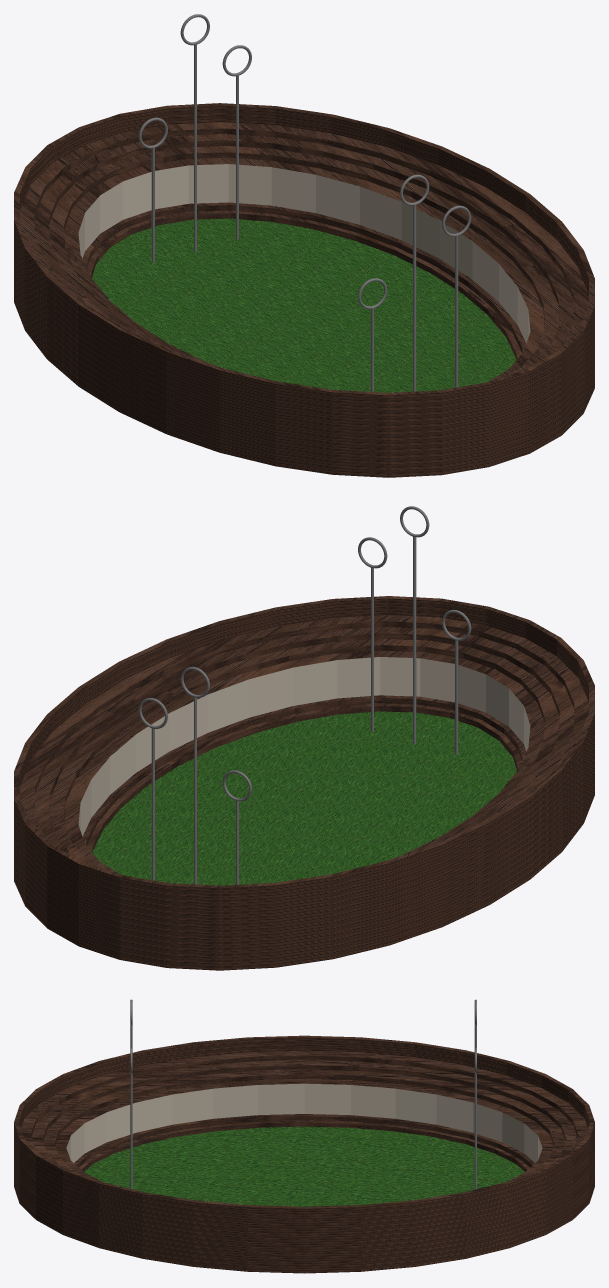
Rendered from pitch-field.fbx.
3 views of the same model, one above another, from view 1: azimuth 30°, elevation 25°; view 2: azimuth 150°, elevation 25°; view 3: azimuth 270°, elevation 25° (orthographic). The views are drawn at different scales.
Visible parts, largest first — view 1: Circle, Cylinder.005, Cylinder.001, Cylinder.004, Cylinder, Torus; view 2: Circle, Cylinder.005, Cylinder, Cylinder.001, Cylinder.004, Torus.002; view 3: Circle, Cylinder, Cylinder.004.
Boxes of the visible parts, x1,y1,x2,y2 form: Circle: (14, 103, 594, 477); Cylinder.005: (400, 174, 429, 391); Cylinder.001: (180, 14, 209, 252); Cylinder.004: (442, 205, 471, 387); Cylinder: (222, 45, 251, 239); Torus: (138, 117, 167, 262); Circle: (14, 596, 594, 970); Cylinder.005: (400, 506, 429, 744); Cylinder: (138, 698, 167, 880); Cylinder.001: (180, 667, 209, 884); Cylinder.004: (358, 537, 387, 731); Torus.002: (442, 609, 471, 754); Circle: (14, 1035, 594, 1273); Cylinder: (474, 1048, 476, 1189); Cylinder.004: (130, 1048, 132, 1189).
Bounding box in the file's own units: 8600 × 4325 × 12200.
